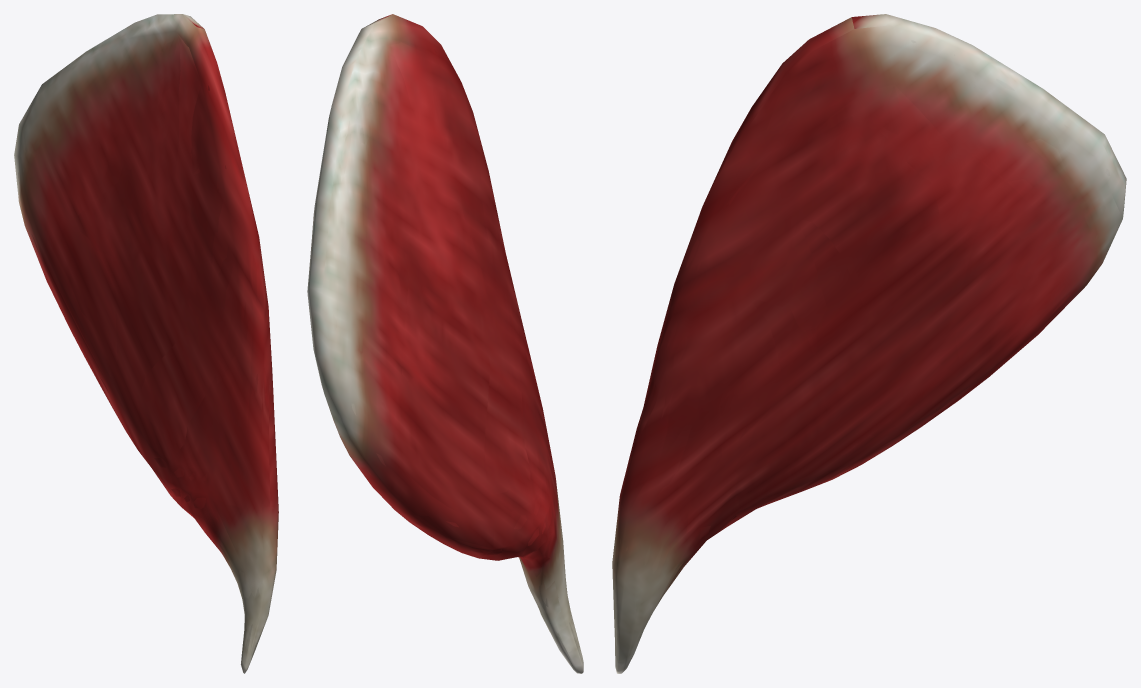
File: R Subscapularis.fbx
3 renders of one model, left to right at view 1: azimuth 30°, elevation 25°; view 2: azimuth 150°, elevation 25°; view 3: azimuth 270°, elevation 25°, orthographic. The views are drawn at different scales.
Visible parts, largest first — view 1: R Subscapularis, R Subscapularis low, R Subscapularis high; view 2: R Subscapularis, R Subscapularis low, R Subscapularis high; view 3: R Subscapularis, R Subscapularis low, R Subscapularis high.
Boxes of the visible parts, left/top/right/bottom form: R Subscapularis: left=14, top=14, right=278, bottom=673; R Subscapularis low: left=18, top=14, right=278, bottom=672; R Subscapularis high: left=18, top=33, right=276, bottom=654; R Subscapularis: left=307, top=14, right=583, bottom=673; R Subscapularis low: left=307, top=18, right=582, bottom=671; R Subscapularis high: left=311, top=45, right=573, bottom=663; R Subscapularis: left=612, top=14, right=1126, bottom=673; R Subscapularis low: left=612, top=15, right=1125, bottom=670; R Subscapularis high: left=615, top=26, right=1110, bottom=666.
Bounding box in the file's own units: 1.29 × 7.57 × 5.12.
Materials: 1 (1 with a texture image).
